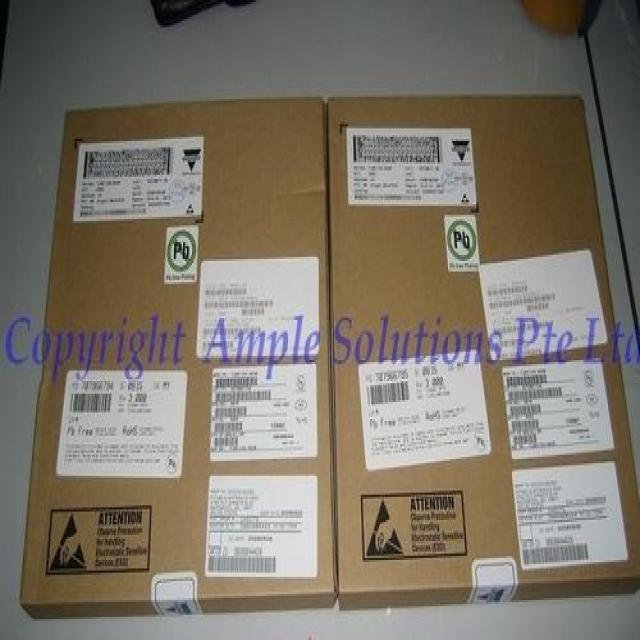box: (21, 98, 337, 622), (326, 93, 639, 609)
